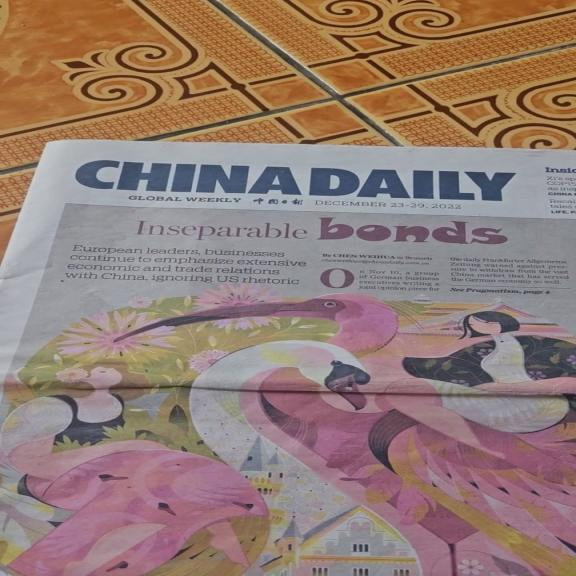Kertas: (50, 143, 568, 562)
